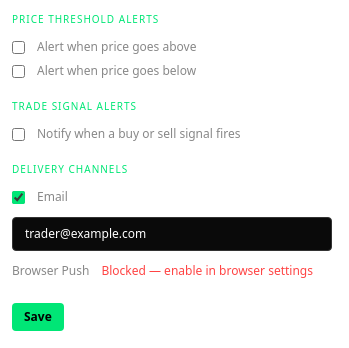
Test case: AlertSettings › shows Saved message after successful save
The image size is (349, 348).
Click the button with test id "save-btn": (38, 317) [12,303,64,331]
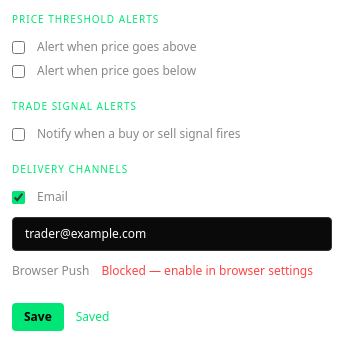
Expected: the text with test id "save-msg" reads "Saved", [76,308,109,325]
